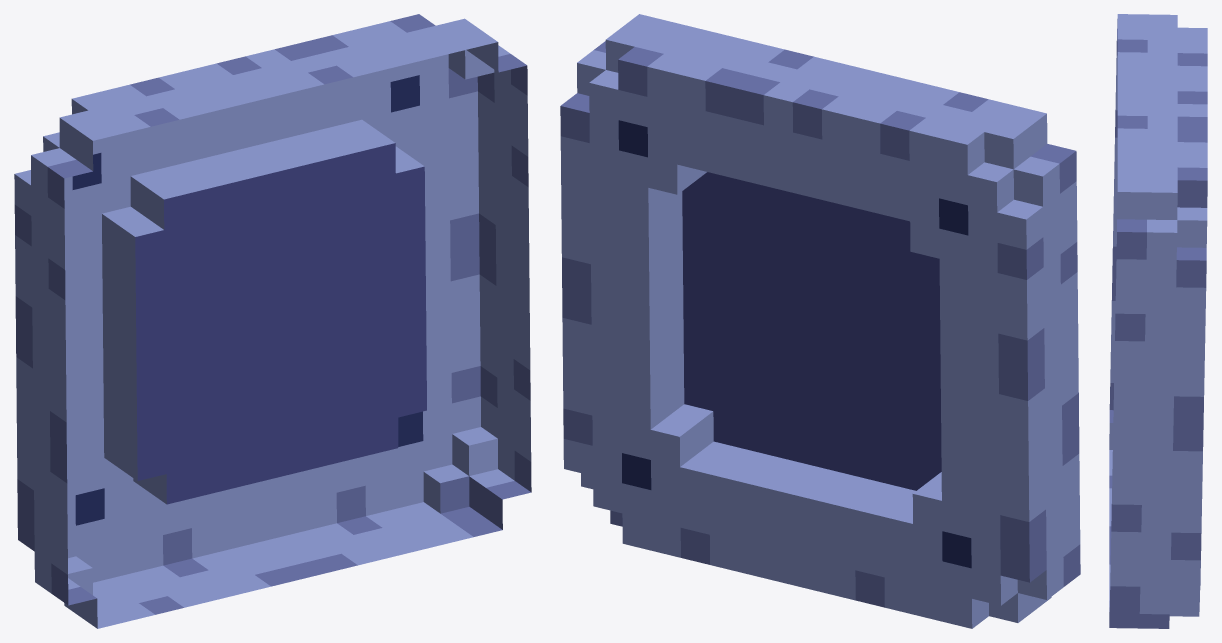
The model's file is ButtonBase1.fbx.
3 renders of one model, left to right at view 1: azimuth 30°, elevation 25°; view 2: azimuth 150°, elevation 25°; view 3: azimuth 270°, elevation 25°, orthographic. The views are drawn at different scales.
Parts seen in each view (by area): view 1: Cube.118; view 2: Cube.118; view 3: Cube.118.
Part boxes in pixels (<box>): Cube.118: <box>14,14,531,628</box>; Cube.118: <box>560,14,1080,628</box>; Cube.118: <box>1109,14,1207,628</box>.
Size of the model in its own units: 1600 by 1605 by 328.
